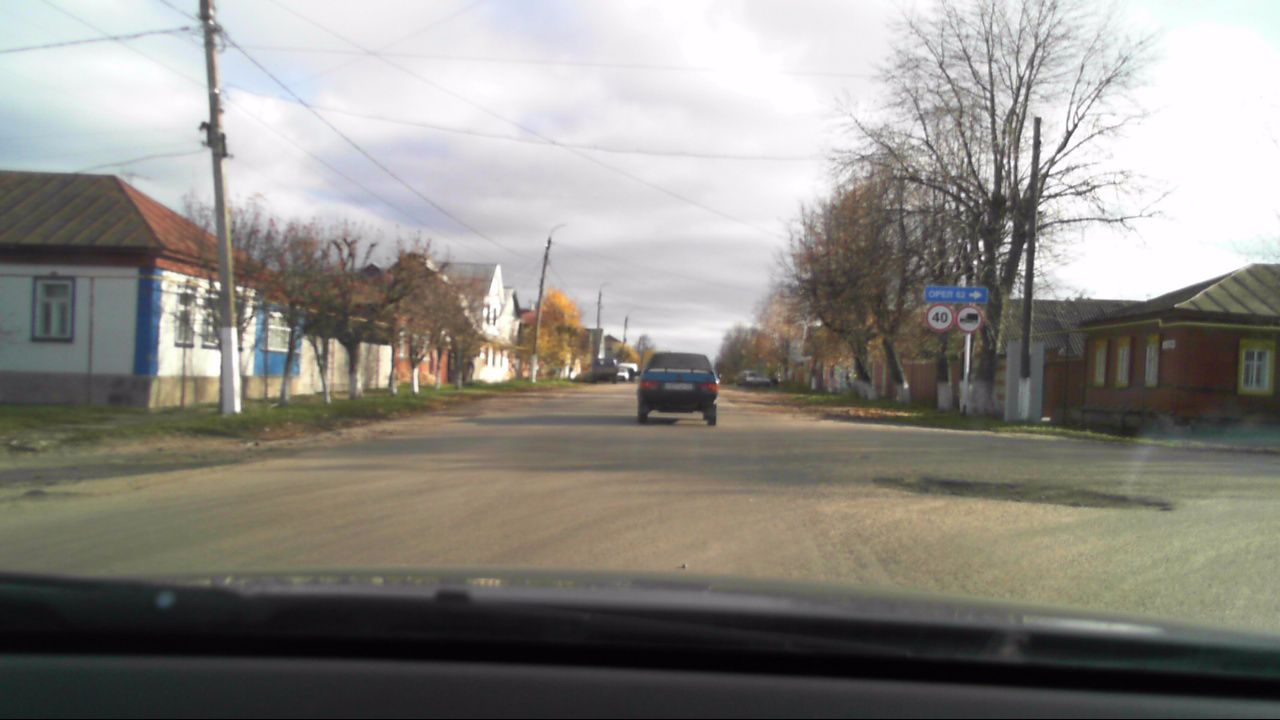speed_warning_40: (927, 305, 954, 332)
